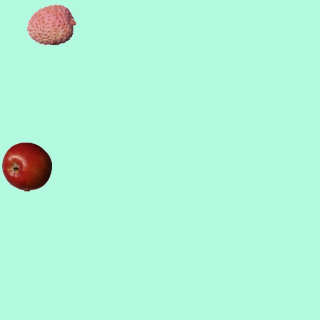Apple Braeburn: (1, 141, 51, 191)
Lychee: (26, 0, 76, 49)
